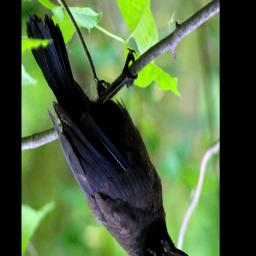Crow: (24, 11, 190, 256)
